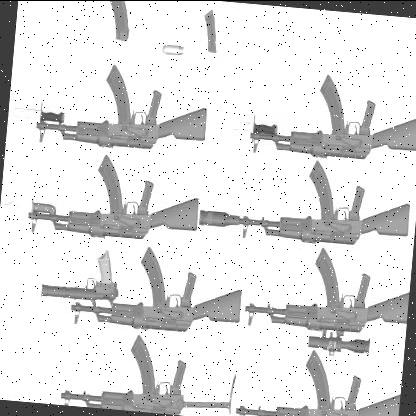rifle: (215, 56, 416, 166), (197, 153, 416, 252), (41, 234, 246, 335), (6, 55, 212, 155), (0, 147, 201, 241), (242, 240, 413, 350), (56, 326, 241, 416), (237, 345, 403, 416)
